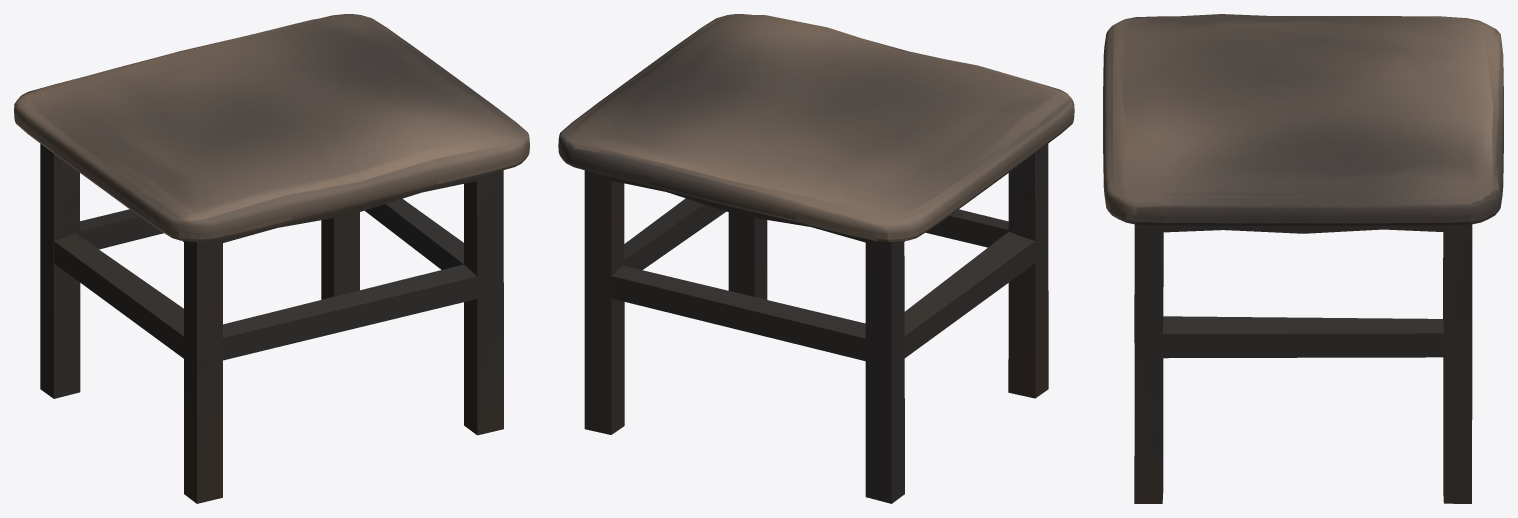
The model's file is penkki.fbx.
The picture shows the model from 3 angles, left to right: view 1: azimuth 30°, elevation 25°; view 2: azimuth 150°, elevation 25°; view 3: azimuth 270°, elevation 25°; orthographic projection. The views are drawn at different scales.
Visible parts, largest first — view 1: penkki; view 2: penkki; view 3: penkki.
Boxes of the visible parts, x1,y1,x2,y2 form: penkki: [14, 14, 529, 503]; penkki: [558, 14, 1074, 503]; penkki: [1103, 14, 1503, 503].
Bounding box in the file's own units: 1.18 × 0.9586 × 1.04.
Materials: 1 (1 with a texture image).
